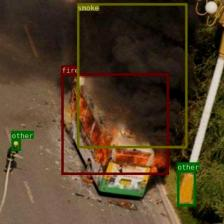fire: (61, 73, 168, 174)
smoke: (77, 2, 187, 148)
